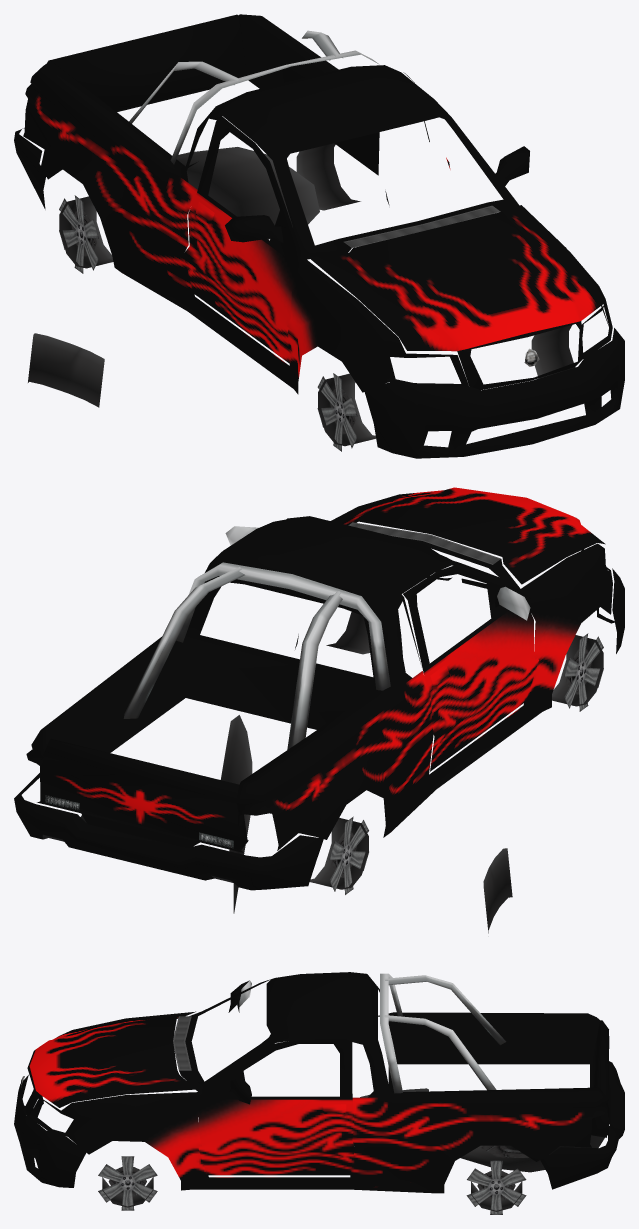
Rendered from car-CUPE_Car13.glb.
3 renders of one model, top to bottom at view 1: azimuth 30°, elevation 25°; view 2: azimuth 150°, elevation 25°; view 3: azimuth 270°, elevation 25°, orthographic. The views are drawn at different scales.
Parts seen in each view (by area): view 1: CUPE_Car13; view 2: CUPE_Car13; view 3: CUPE_Car13.
Boxes of the visible parts, box(x1,y1,x2,y2) form: CUPE_Car13: box(14, 14, 624, 458); CUPE_Car13: box(14, 487, 624, 933); CUPE_Car13: box(14, 972, 624, 1214).
Bounding box in the file's own units: 2.84 × 2 × 5.22.
13 materials, 13 textured.
